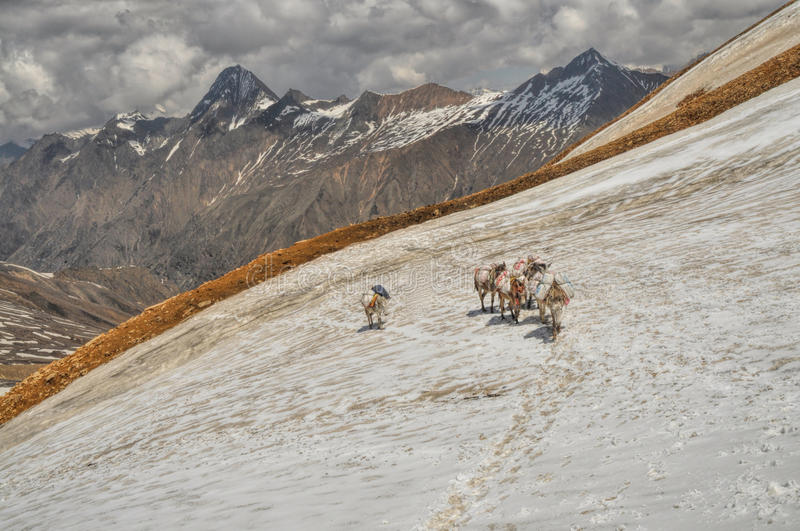equine: (526, 277, 577, 338), (459, 261, 511, 312), (353, 282, 400, 338), (490, 271, 530, 330)
